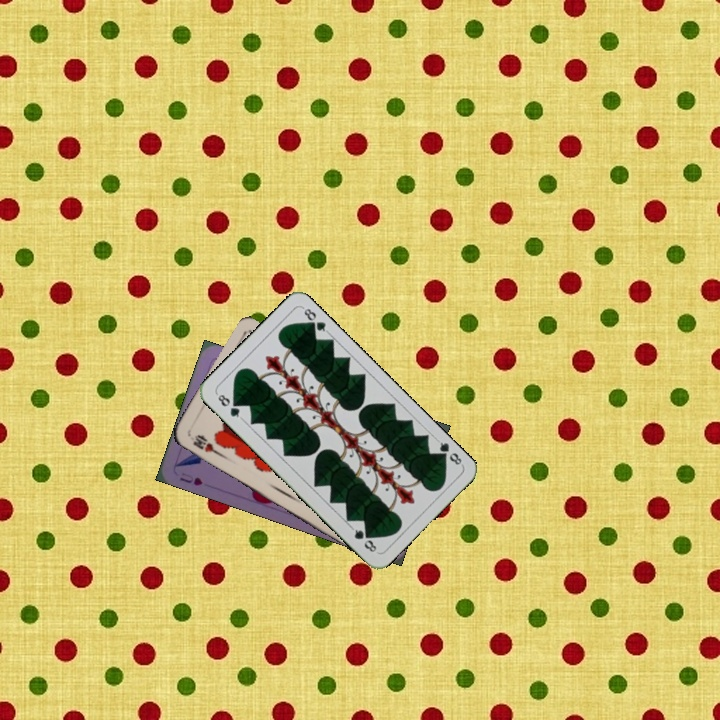G8: (213, 389, 245, 422), (433, 435, 465, 468)
H10: (189, 430, 222, 457)
HU: (175, 468, 205, 488)
